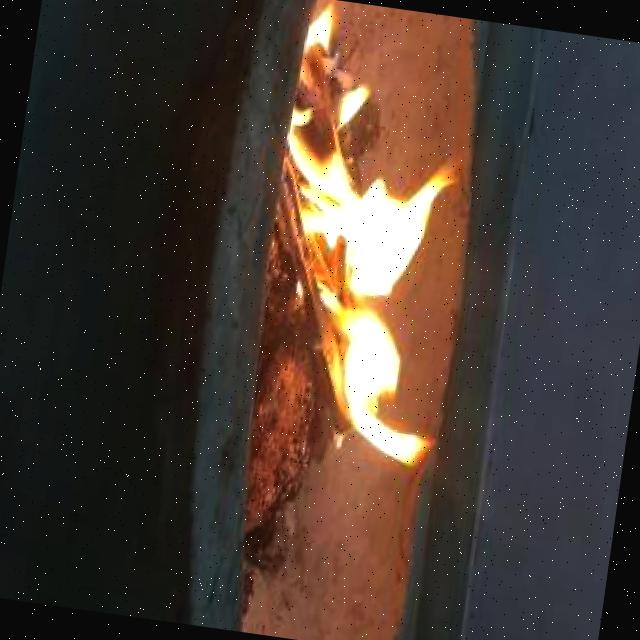fire: (251, 8, 493, 465)
